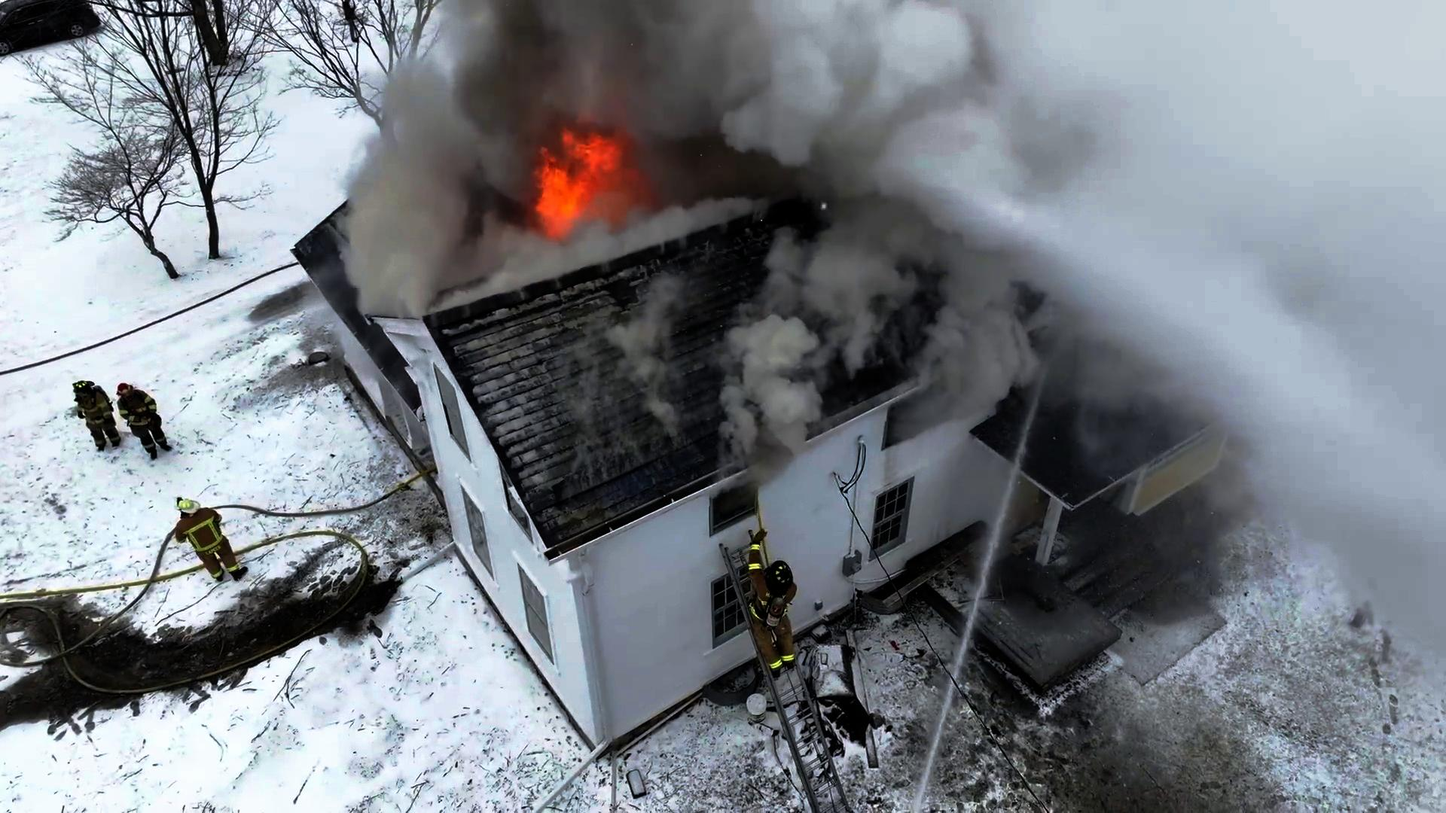fire: (524, 104, 642, 238)
smoke: (795, 34, 1446, 347)
